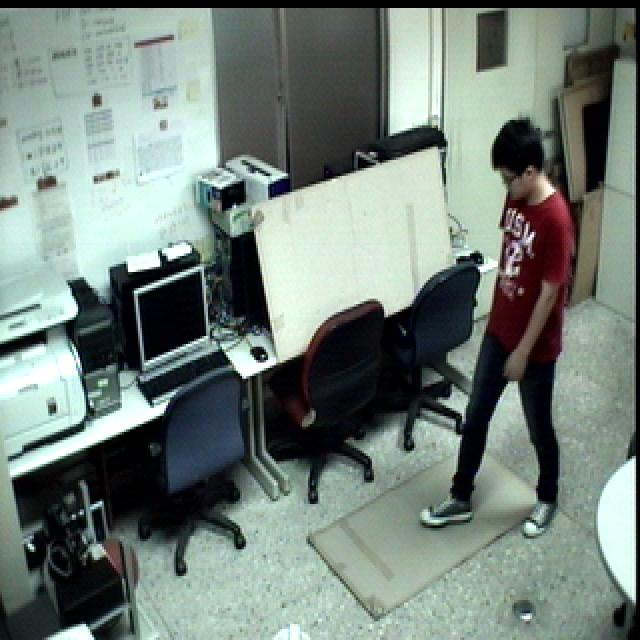stand: (405, 101, 576, 544)
